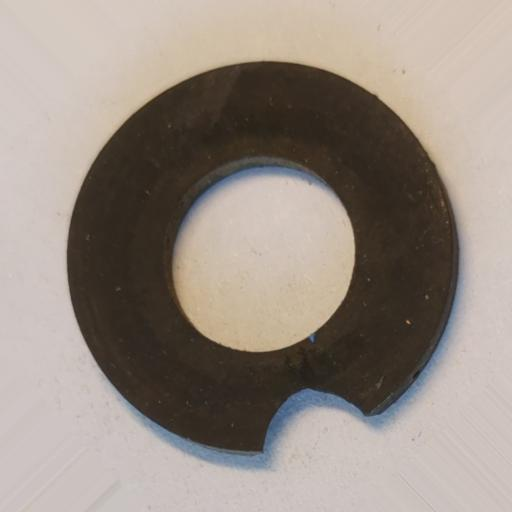defect: (257, 386, 369, 456)
